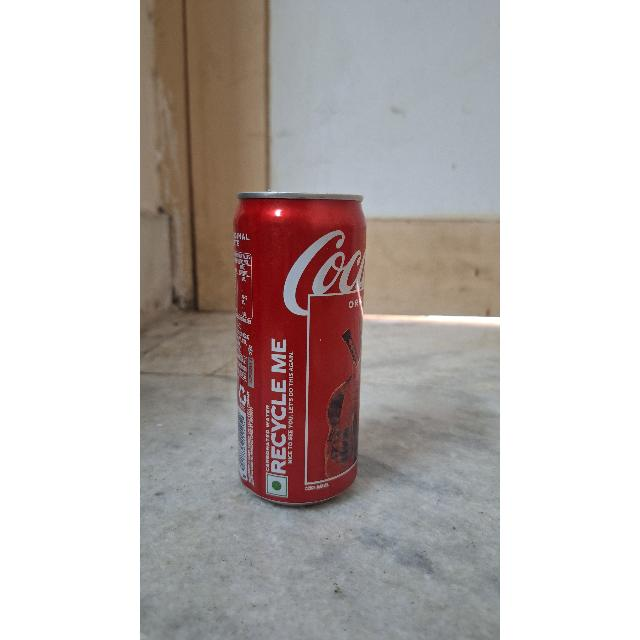Coca Cola - Marvel: (224, 189, 362, 499)
